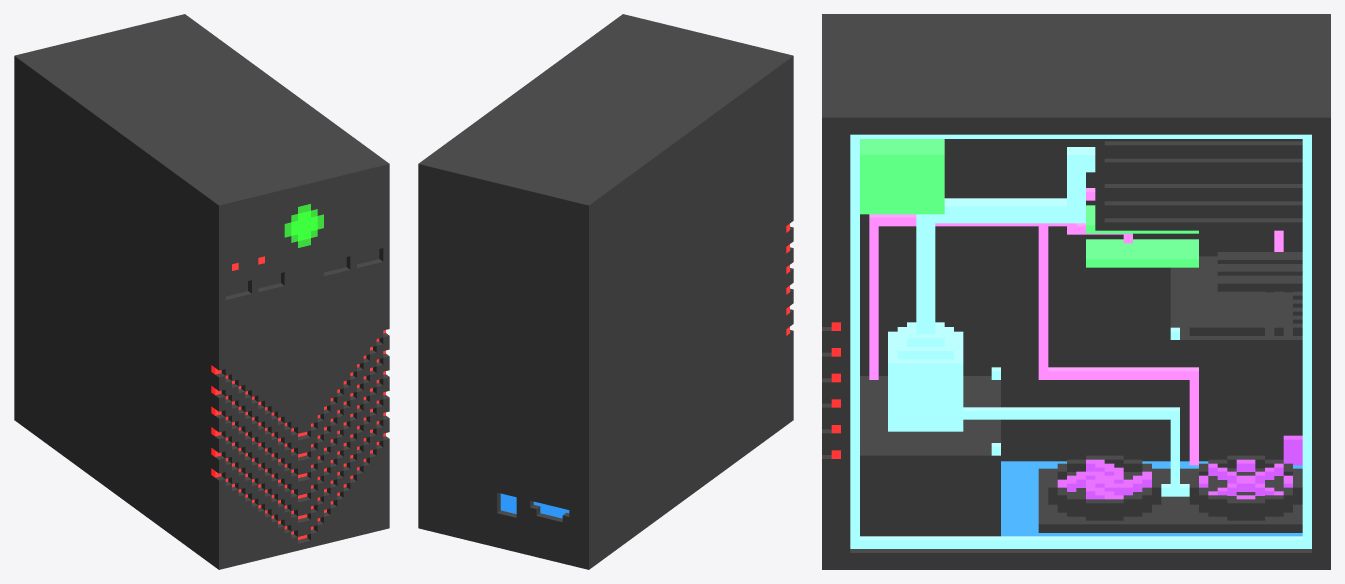
Rendered from gaming_pc_on_desktop_0_lev1_lev3.glb.
The picture shows the model from 3 angles, left to right: view 1: azimuth 30°, elevation 25°; view 2: azimuth 150°, elevation 25°; view 3: azimuth 270°, elevation 25°; orthographic projection. The views are drawn at different scales.
Visible parts, largest first — view 1: gaming_pc_on_desktop_0_lev1_lev3; view 2: gaming_pc_on_desktop_0_lev1_lev3; view 3: gaming_pc_on_desktop_0_lev1_lev3.
Part boxes in pixels (x1,y1,x2,y2): gaming_pc_on_desktop_0_lev1_lev3: [14, 14, 389, 569]; gaming_pc_on_desktop_0_lev1_lev3: [418, 14, 793, 569]; gaming_pc_on_desktop_0_lev1_lev3: [822, 14, 1330, 569].
Bounding box in the file's own units: 0.7459 × 1.52 × 1.55.
1 material, 1 textured.
